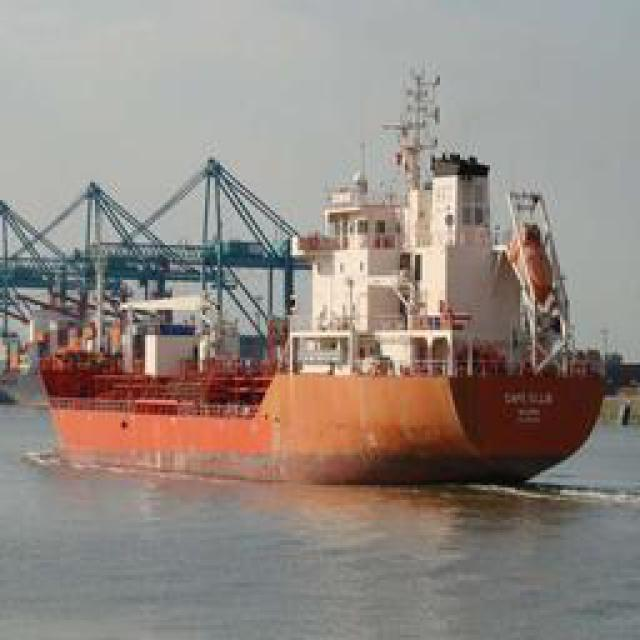Ship: (41, 86, 604, 481)
